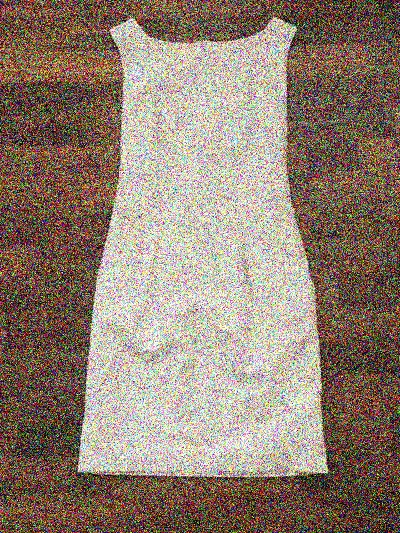Dress: (59, 11, 344, 492)
